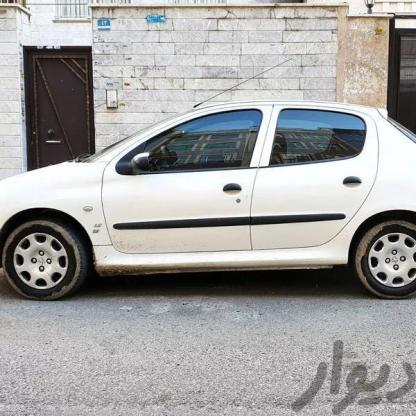Car: (0, 90, 416, 317)
